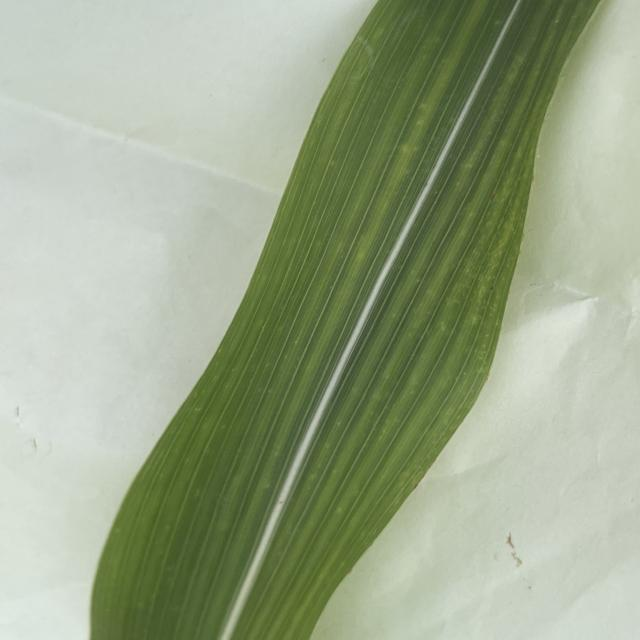millet_healthy: (93, 0, 603, 640)
